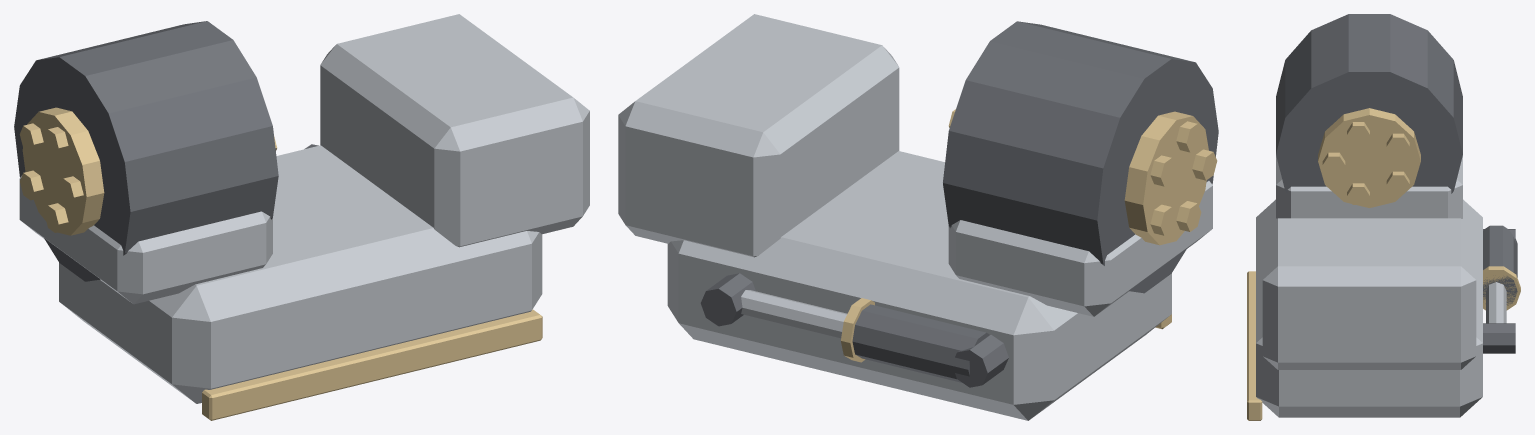
Rendered from bastion.fold_knee.glb.
3 views of the same model, side by side, from view 1: azimuth 30°, elevation 25°; view 2: azimuth 150°, elevation 25°; view 3: azimuth 270°, elevation 25° (orthographic). The views are drawn at different scales.
Bounding box in the file's own units: 1.19 × 0.7314 × 0.7179.
